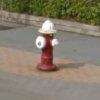Hydrant: (31, 13, 65, 83)
